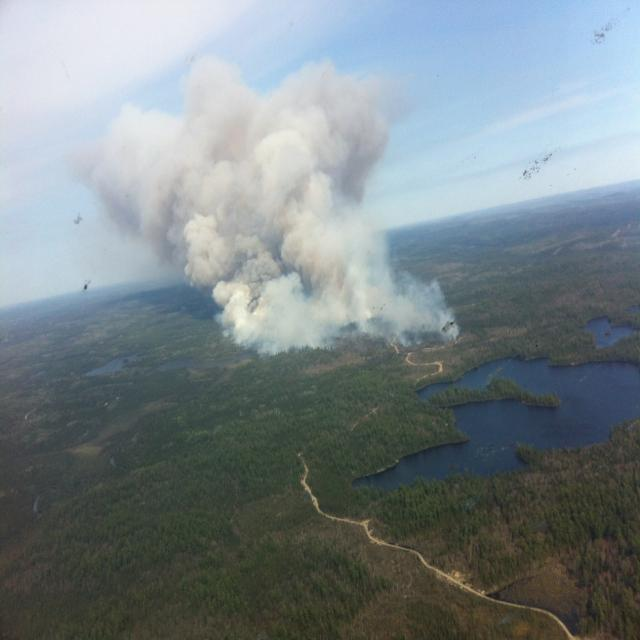Smoke: (103, 75, 435, 362)
